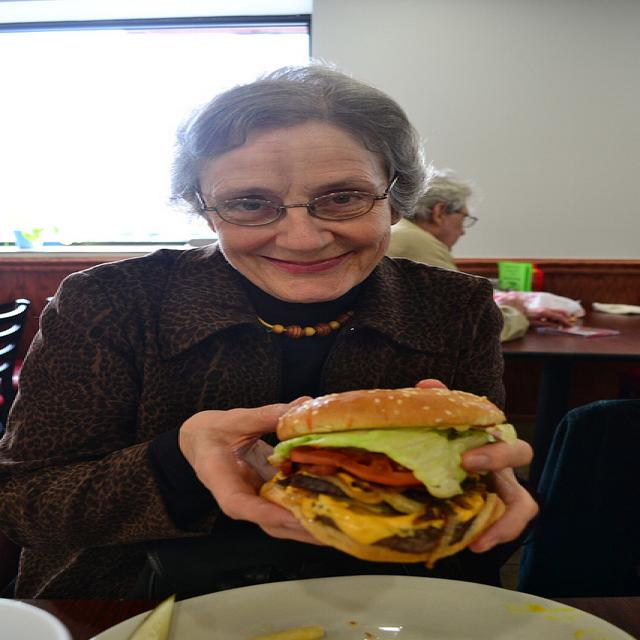chair: (516, 400, 640, 595), (0, 297, 33, 442)
dining table: (0, 573, 640, 640), (488, 264, 640, 354)
